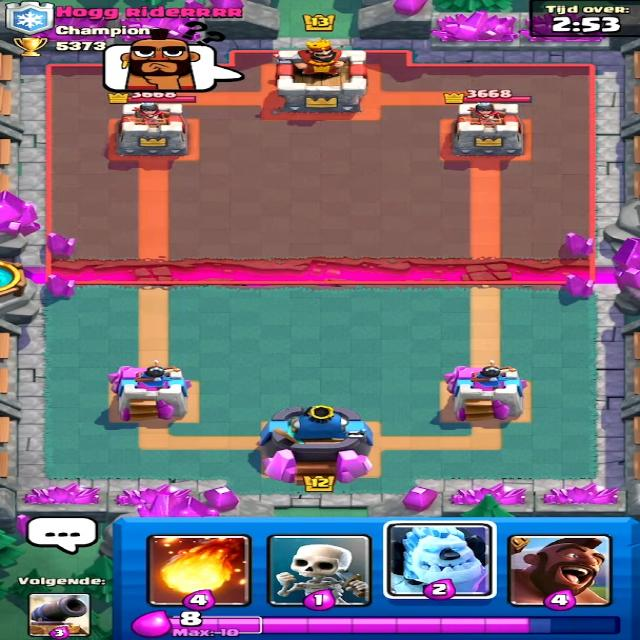Fireball_Card: (149, 536, 250, 606)
Hog_Rider_Card: (510, 534, 611, 605)
Ice_Golem_Card: (388, 524, 496, 599)
Skeleton_Card: (272, 535, 369, 607)
